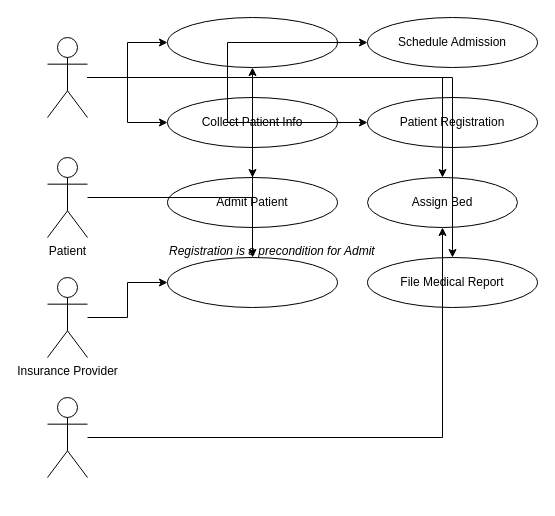
Image size: 555x516. Some labels were removed from this diagram. Each missing label, with the centre of its shape:
File Insurance Claim: the point at 252,282
Receptionist: the point at 67,77
Schedule Appointment: the point at 252,42
Ward / Bed Mgmt: the point at 67,437
